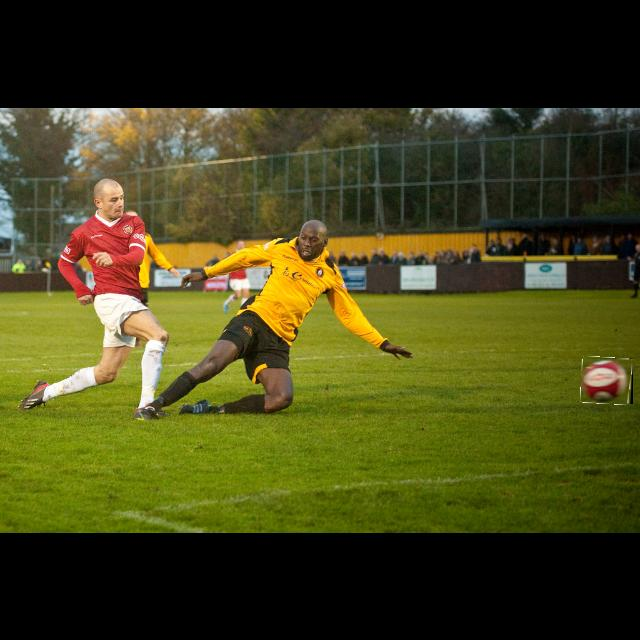Football: (581, 358, 633, 404)
